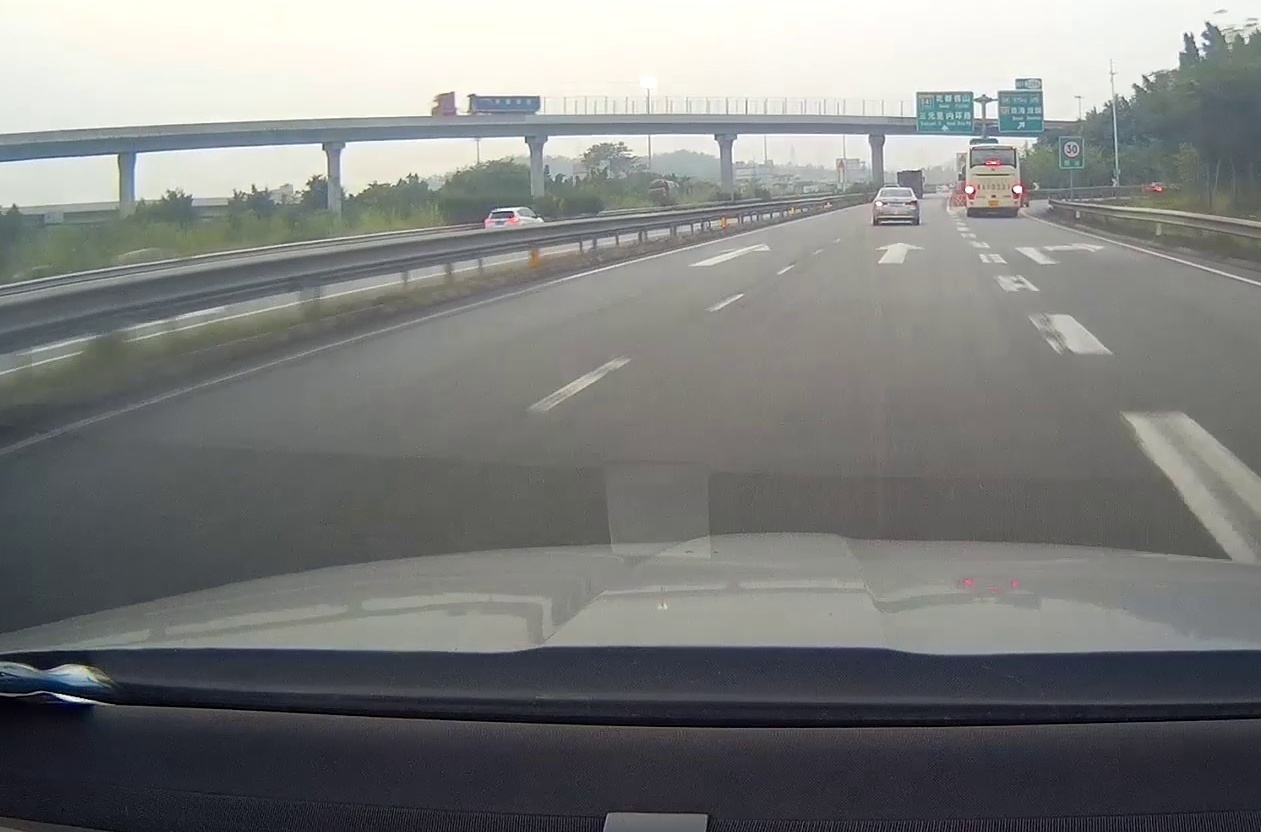L_light: (967, 185, 974, 199), (875, 200, 887, 206)
R_light: (1012, 183, 1020, 199), (904, 200, 917, 205)
T_light: (986, 161, 999, 165), (890, 189, 899, 192)
day-brake: (965, 144, 1022, 217)
day-left: (872, 187, 919, 226)
